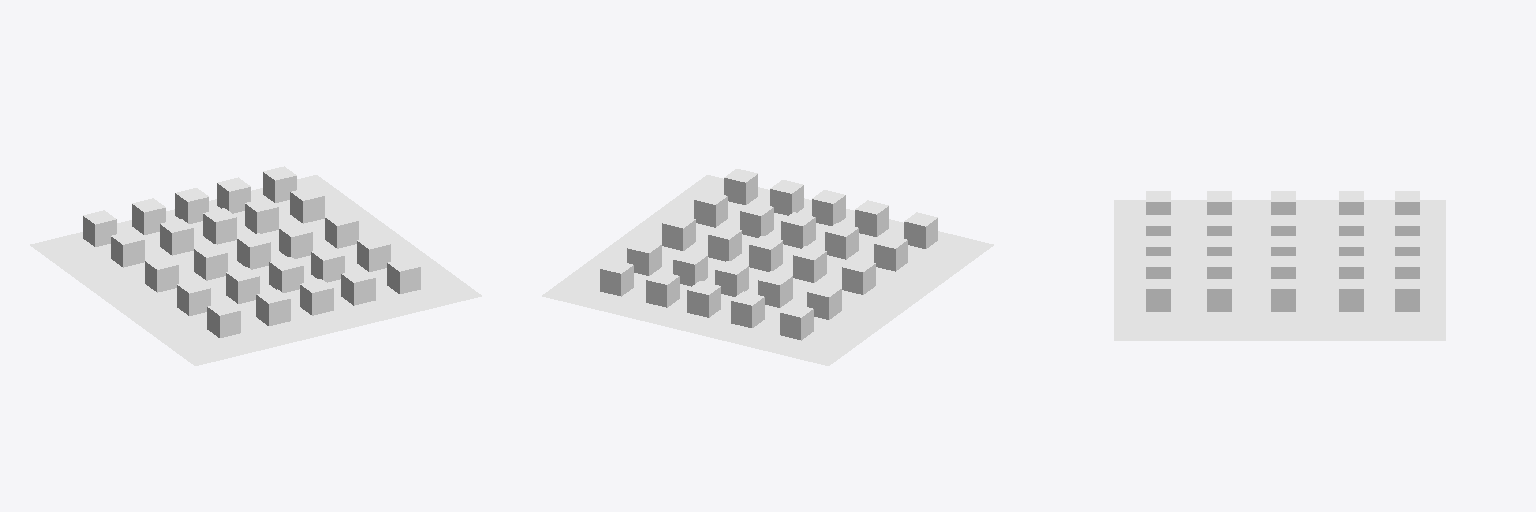
3 views of the same model, side by side, from view 1: azimuth 30°, elevation 25°; view 2: azimuth 150°, elevation 25°; view 3: azimuth 270°, elevation 25° (orthographic).
Parts seen in each view (by area): view 1: scene_Cube.002; view 2: scene_Cube.002; view 3: scene_Cube.002.
Boxes of the visible parts, box(x1,y1,x2,y2) form: scene_Cube.002: box(30, 166, 481, 365); scene_Cube.002: box(542, 169, 993, 365); scene_Cube.002: box(1114, 191, 1445, 340).
Size of the model in its own units: 26.5 by 2.56 by 26.5.